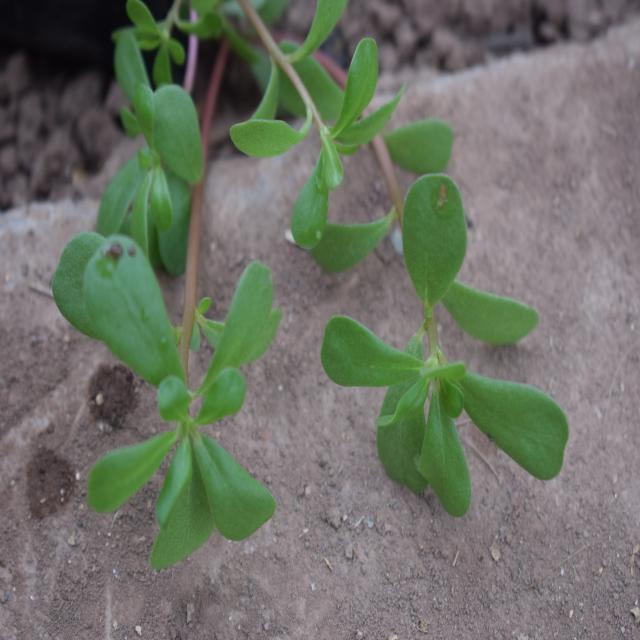purslane: (68, 3, 575, 553)
